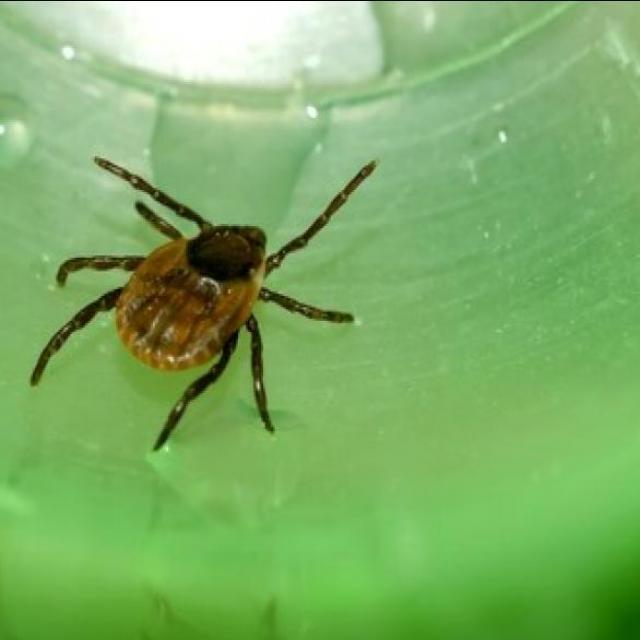Rhipicephalus Sanguineus-F: (29, 155, 374, 448)
